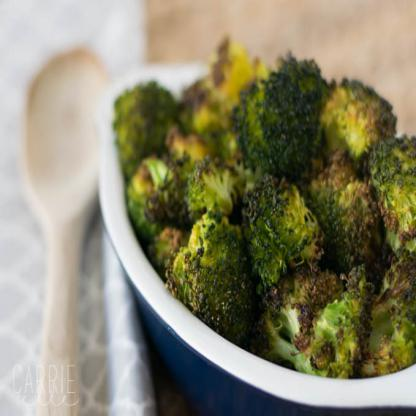broccoli: (112, 35, 416, 385)
